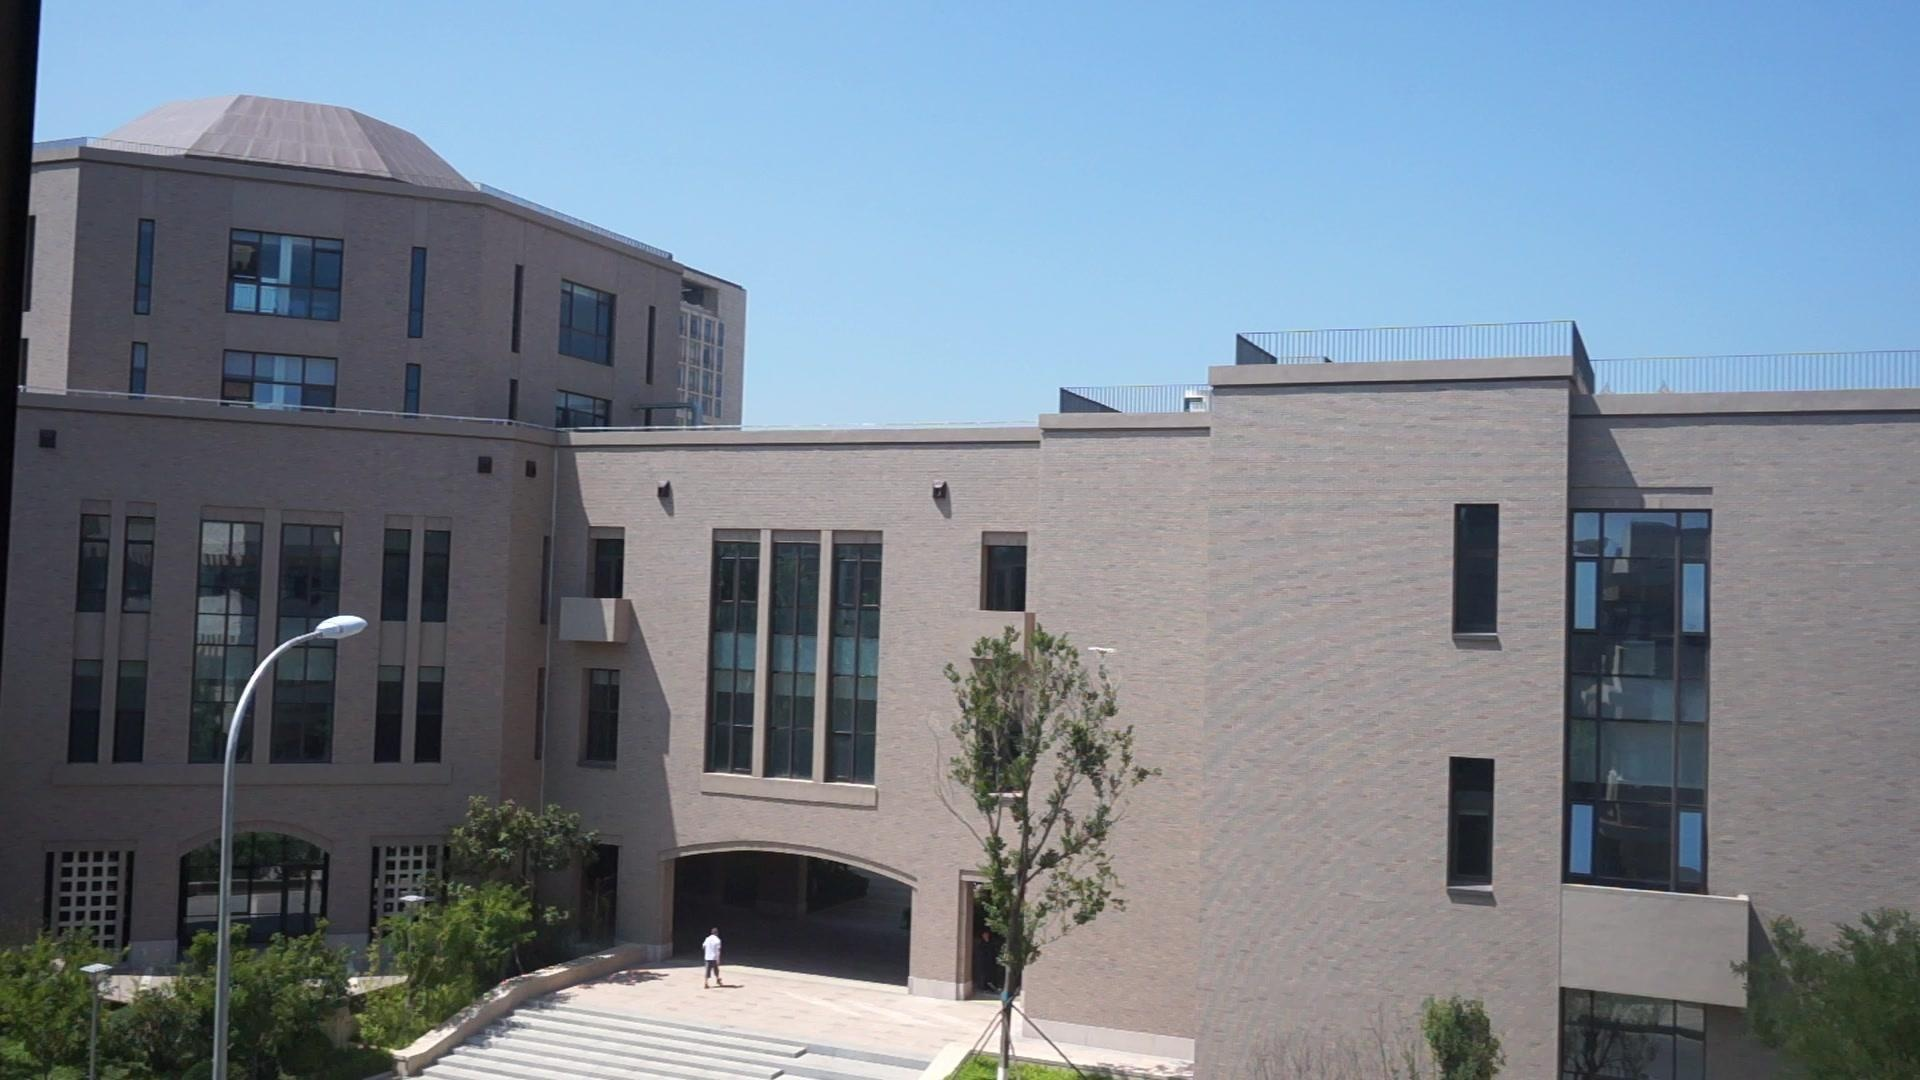UAV: (1089, 647, 1117, 661)
